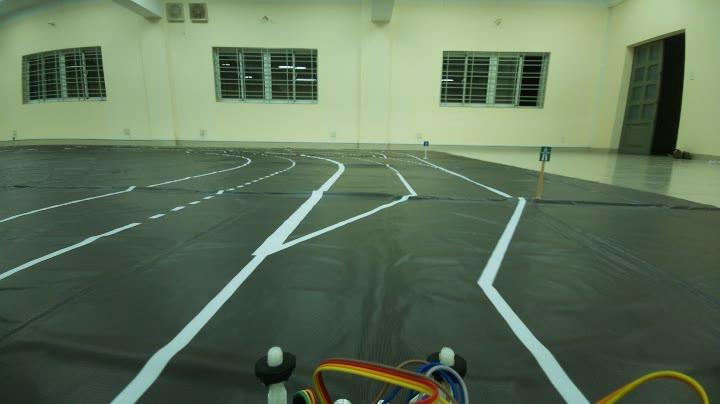highway_entry: (537, 136, 554, 166)
